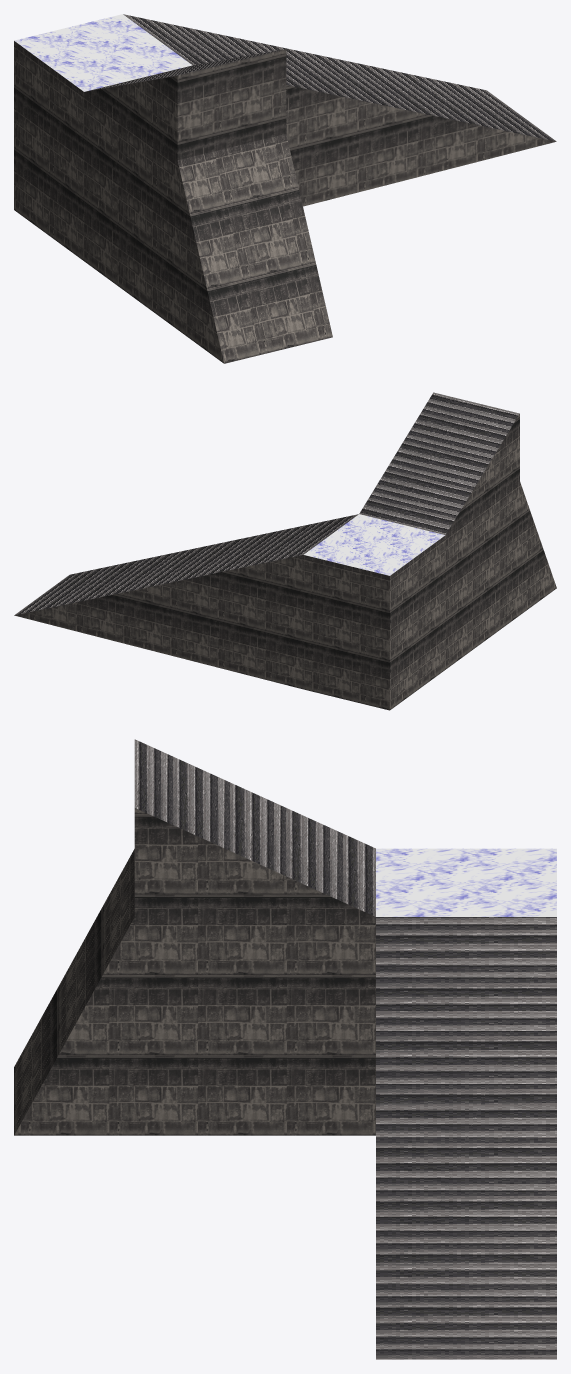
The model's file is kp_stairthing.glb.
The picture shows the model from 3 angles, top to bottom: view 1: azimuth 30°, elevation 25°; view 2: azimuth 150°, elevation 25°; view 3: azimuth 270°, elevation 25°; orthographic projection. The views are drawn at different scales.
Parts seen in each view (by area): view 1: stairthing-col; view 2: stairthing-col; view 3: stairthing-col.
Part boxes in pixels (x1,y1,x2,y2): stairthing-col: (14,14,556,363); stairthing-col: (14,392,556,710); stairthing-col: (14,739,556,1359).
Size of the model in its own units: 11.69 by 6 by 9.
3 materials, 3 textured.
